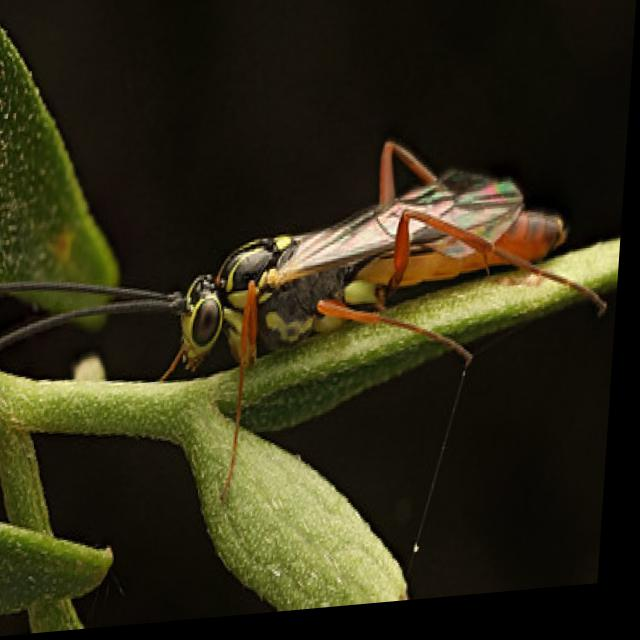Guepe: (0, 118, 630, 507)
